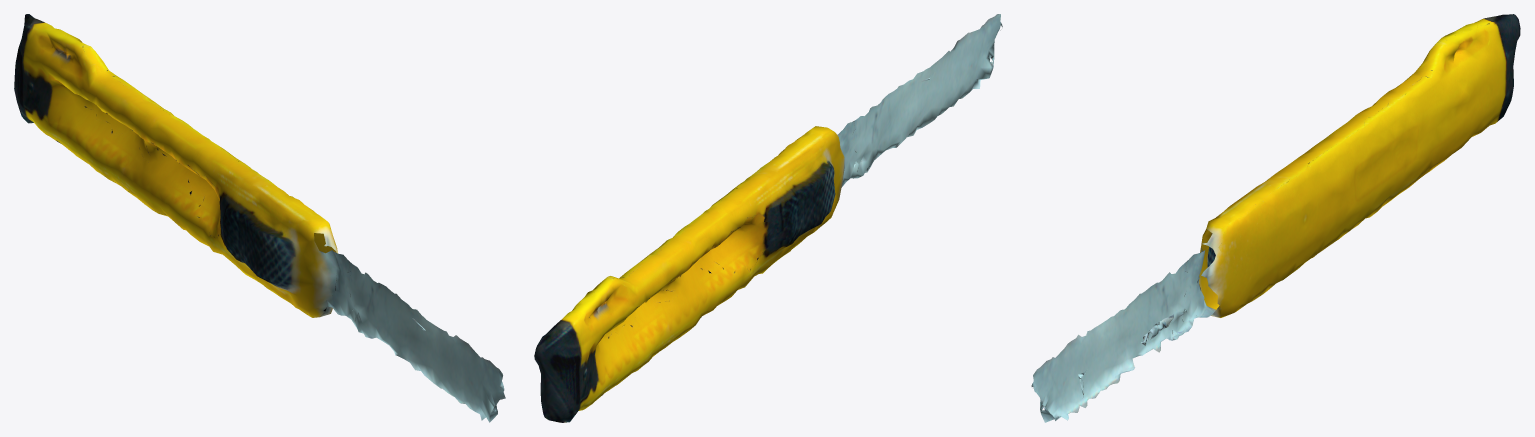
The model's file is scan_align.obj.
3 views of the same model, side by side, from view 1: azimuth 30°, elevation 25°; view 2: azimuth 150°, elevation 25°; view 3: azimuth 330°, elevation 25° (orthographic). The views are drawn at different scales.
Size of the model in its own units: 0.0133 by 0.03 by 0.229.
1 material, 1 textured.
